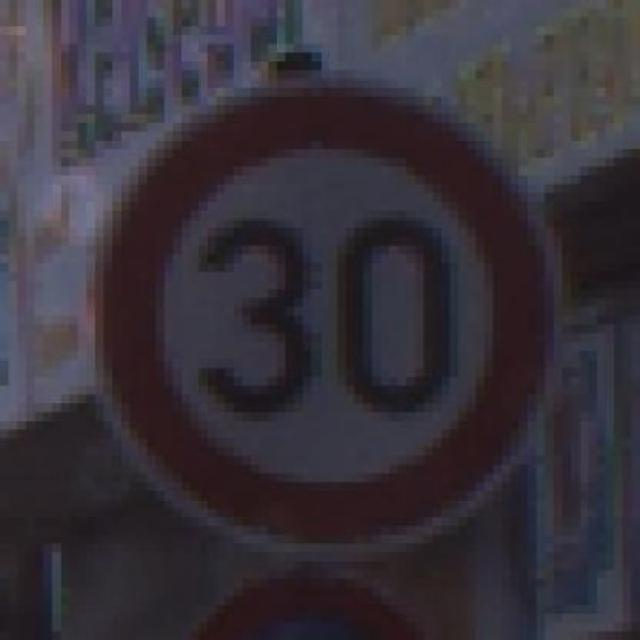Speed Limit 30 KMPh: (69, 70, 580, 544)
